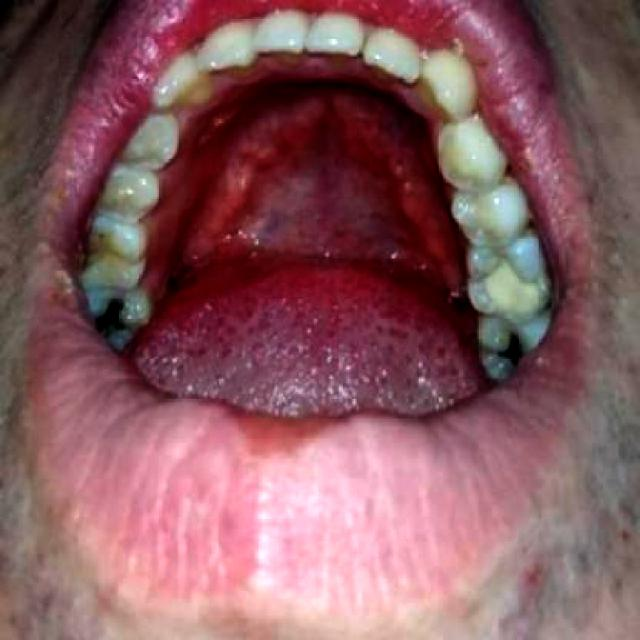Plaque: (95, 230, 110, 245)
